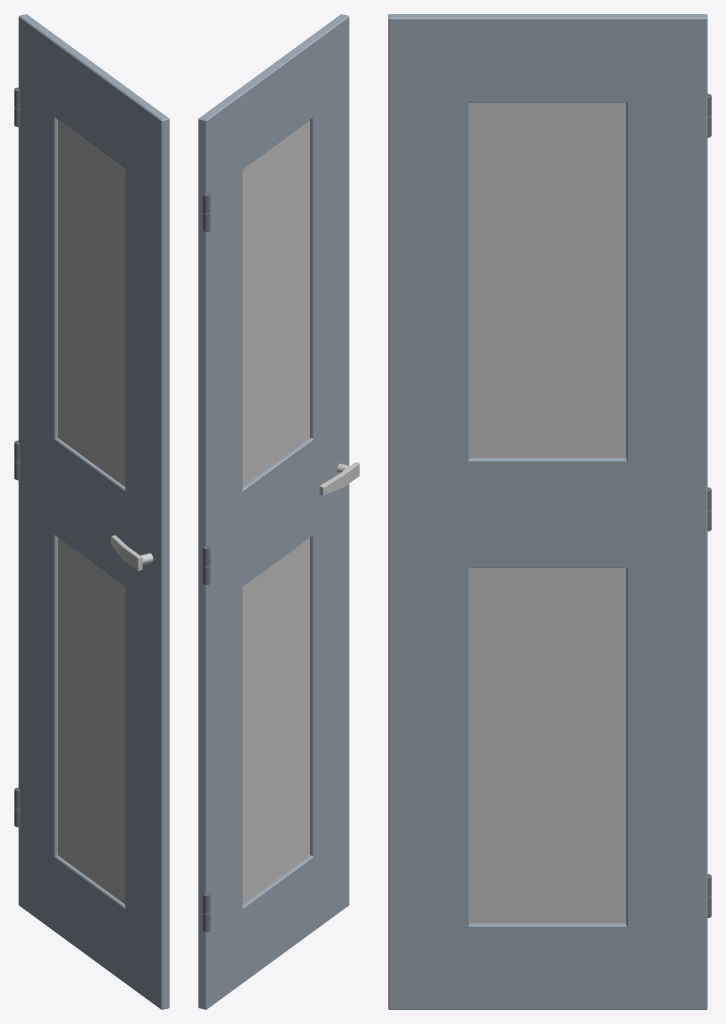
Rendered from Cupboard door left.fbx.
3 renders of one model, left to right at view 1: azimuth 30°, elevation 25°; view 2: azimuth 150°, elevation 25°; view 3: azimuth 270°, elevation 25°, orthographic. The views are drawn at different scales.
Parts seen in each view (by area): view 1: Cupboard door left; view 2: Cupboard door left; view 3: Cupboard door left.
Part boxes in pixels (x1,y1,x2,y2): Cupboard door left: (14,14,169,1009); Cupboard door left: (198,14,359,1009); Cupboard door left: (388,14,711,1009).
Size of the model in its own units: 5.77 by 192 by 56.75.
